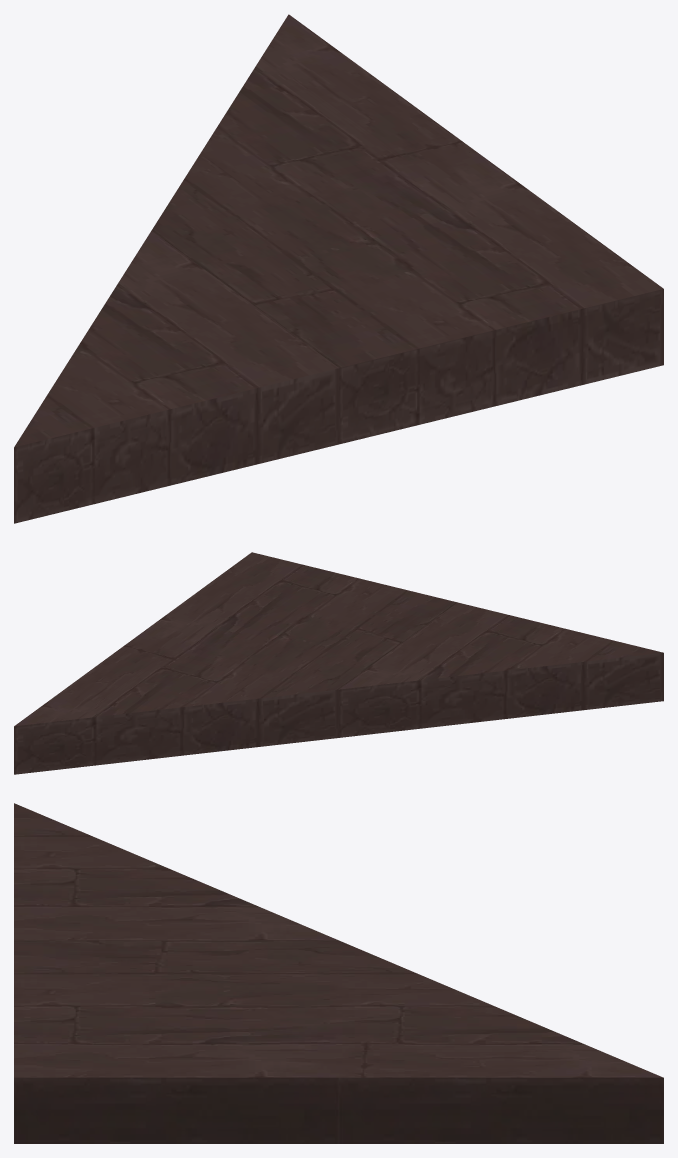
The picture shows the model from 3 angles, top to bottom: view 1: azimuth 30°, elevation 25°; view 2: azimuth 150°, elevation 25°; view 3: azimuth 270°, elevation 25°; orthographic projection. The views are drawn at different scales.
Size of the model in its own units: 2.23 by 0.25 by 2.23.
1 material, 1 textured.
